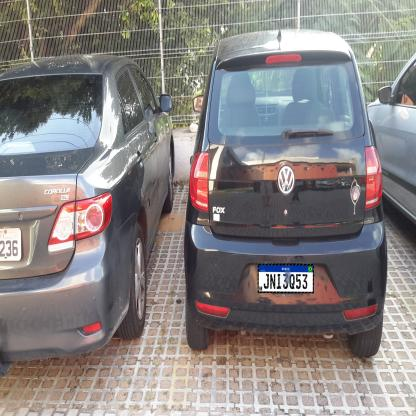PlacaM: (258, 264, 314, 294)
